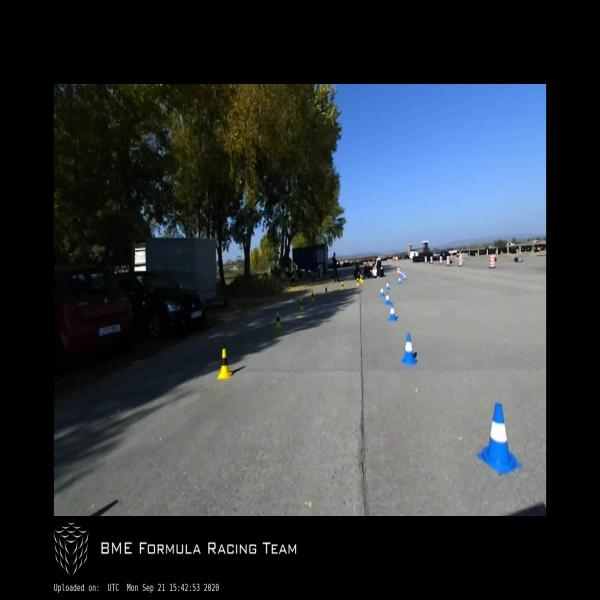blue_cone: (477, 402, 523, 474), (400, 332, 418, 365), (388, 303, 397, 322), (385, 292, 390, 306), (380, 286, 385, 298), (385, 281, 390, 290), (397, 276, 402, 284), (402, 274, 407, 282)
yellow_cone: (218, 349, 231, 380), (274, 312, 282, 329), (299, 299, 304, 311), (355, 277, 360, 287), (311, 290, 314, 302), (324, 286, 328, 295), (340, 281, 344, 290), (360, 276, 363, 283)
